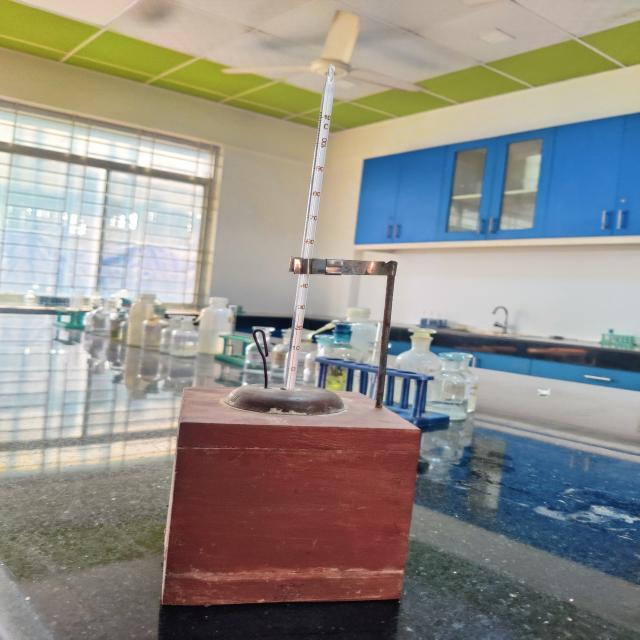Calorimeter: (111, 27, 491, 640)
